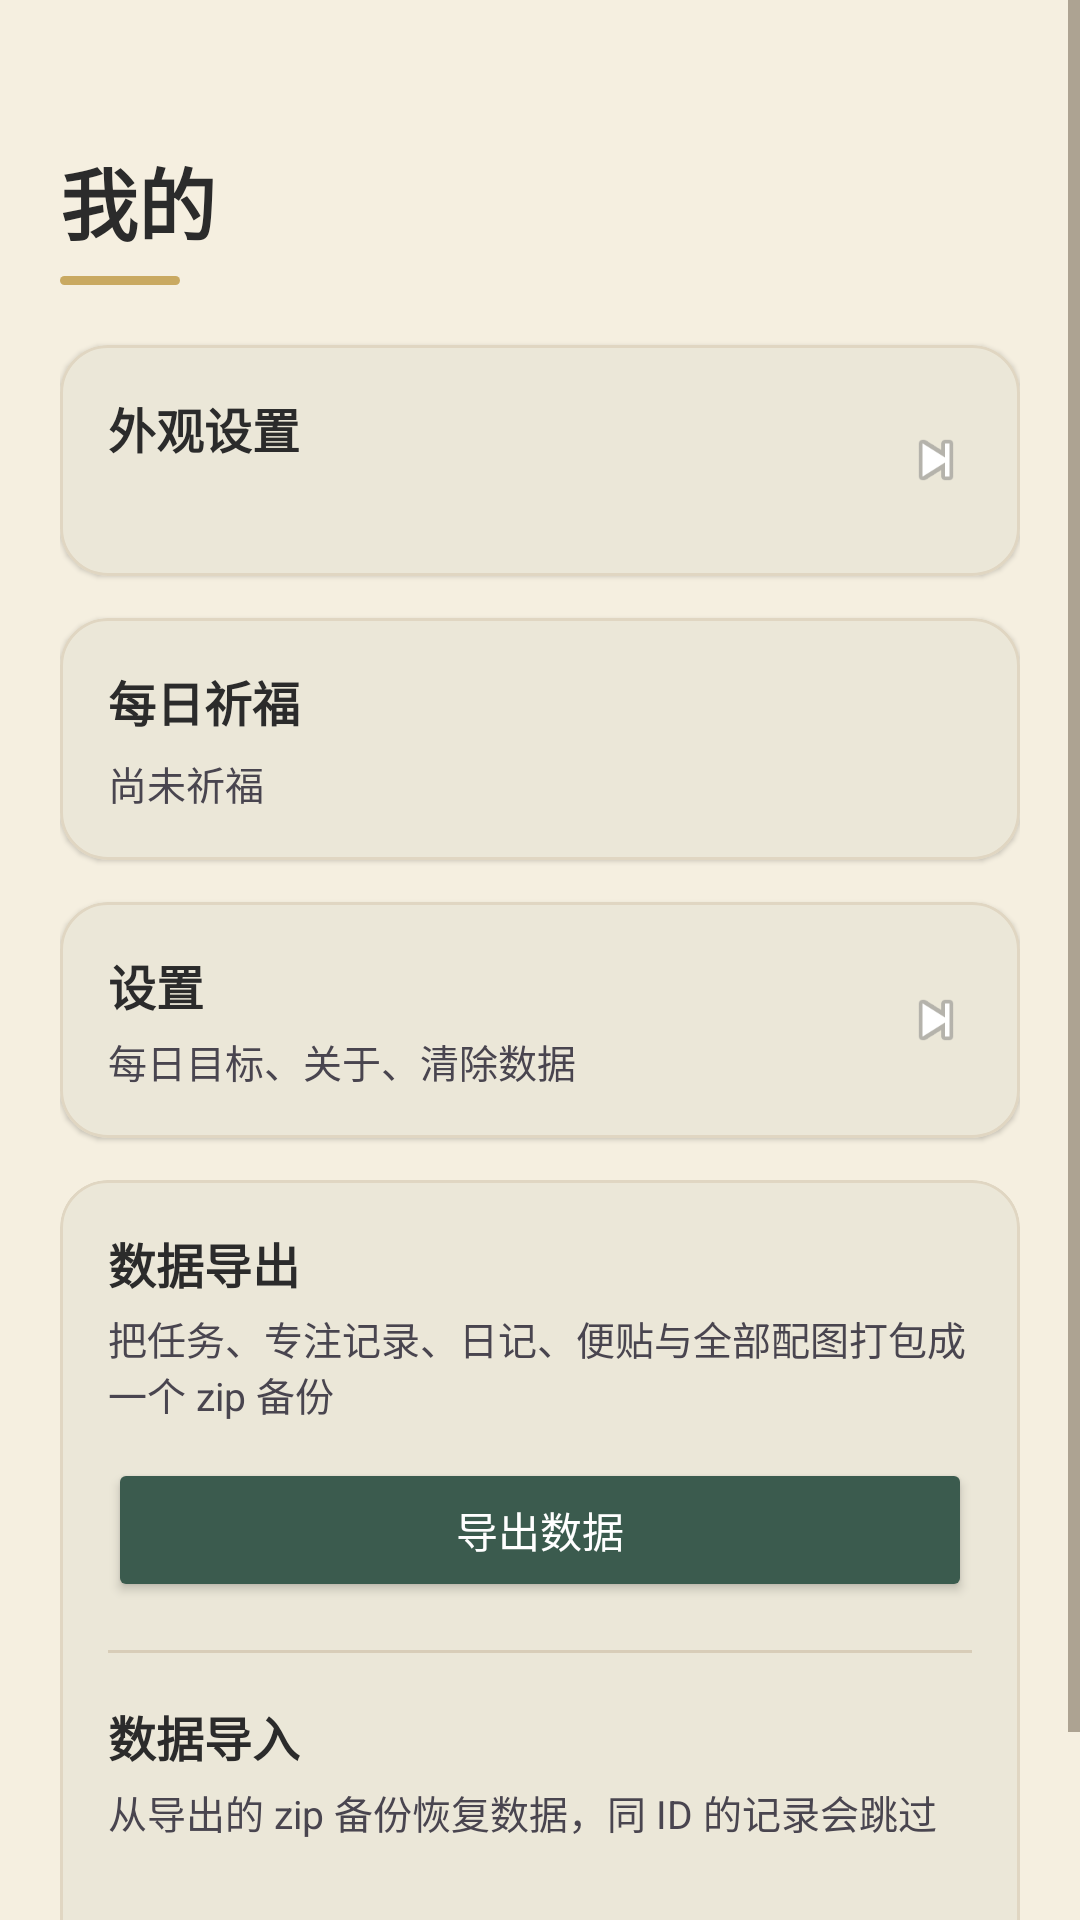

Icon click points for this 1080x1920 phone screenshot, format [x,y]:
next: [936,460], [936,1020]
